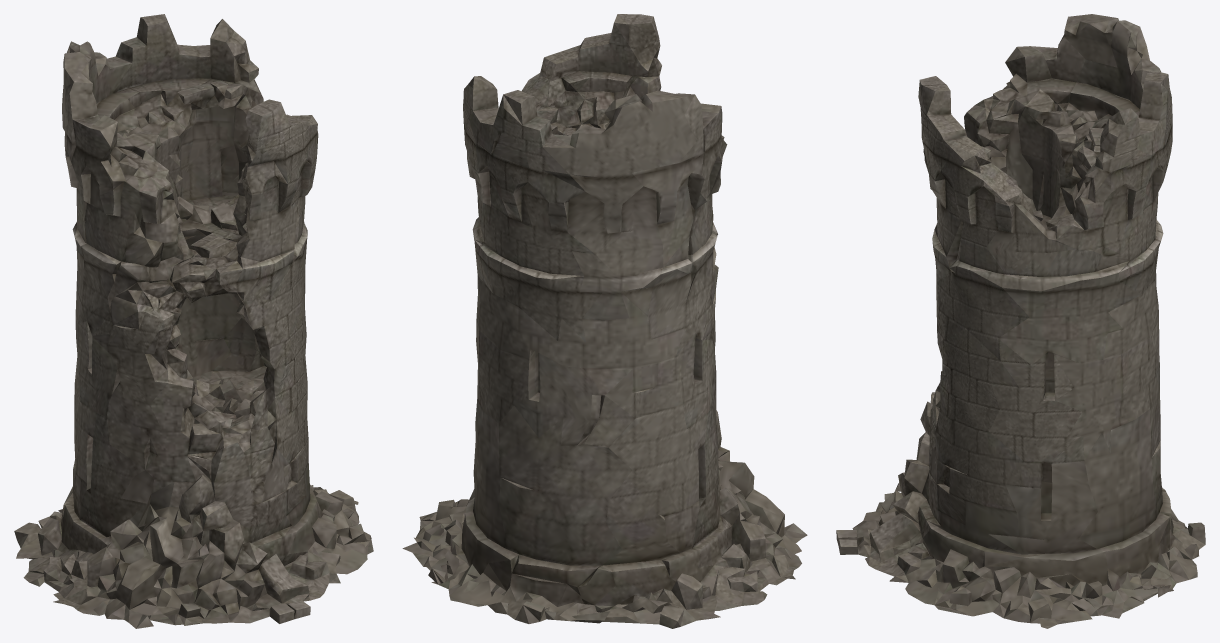
The model's file is wall_tower_destroyed.glb.
The picture shows the model from 3 angles, left to right: view 1: azimuth 30°, elevation 25°; view 2: azimuth 150°, elevation 25°; view 3: azimuth 270°, elevation 25°; orthographic projection. The views are drawn at different scales.
Visible parts, largest first — view 1: output_unwrapped; view 2: output_unwrapped; view 3: output_unwrapped.
Part boxes in pixels (x1,y1,x2,y2): output_unwrapped: (14, 14, 373, 628); output_unwrapped: (402, 14, 807, 628); output_unwrapped: (836, 14, 1205, 628).
Bounding box in the file's own units: 1.35 × 1.9 × 1.3.
Materials: 1 (1 with a texture image).
